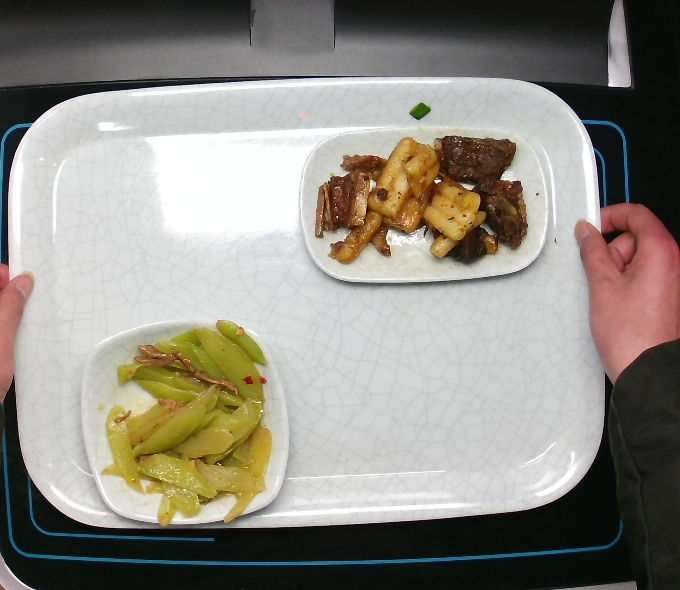wcq-NianGaoZaiPai: (304, 132, 539, 269)
wcq-WoSun: (104, 315, 275, 530)
